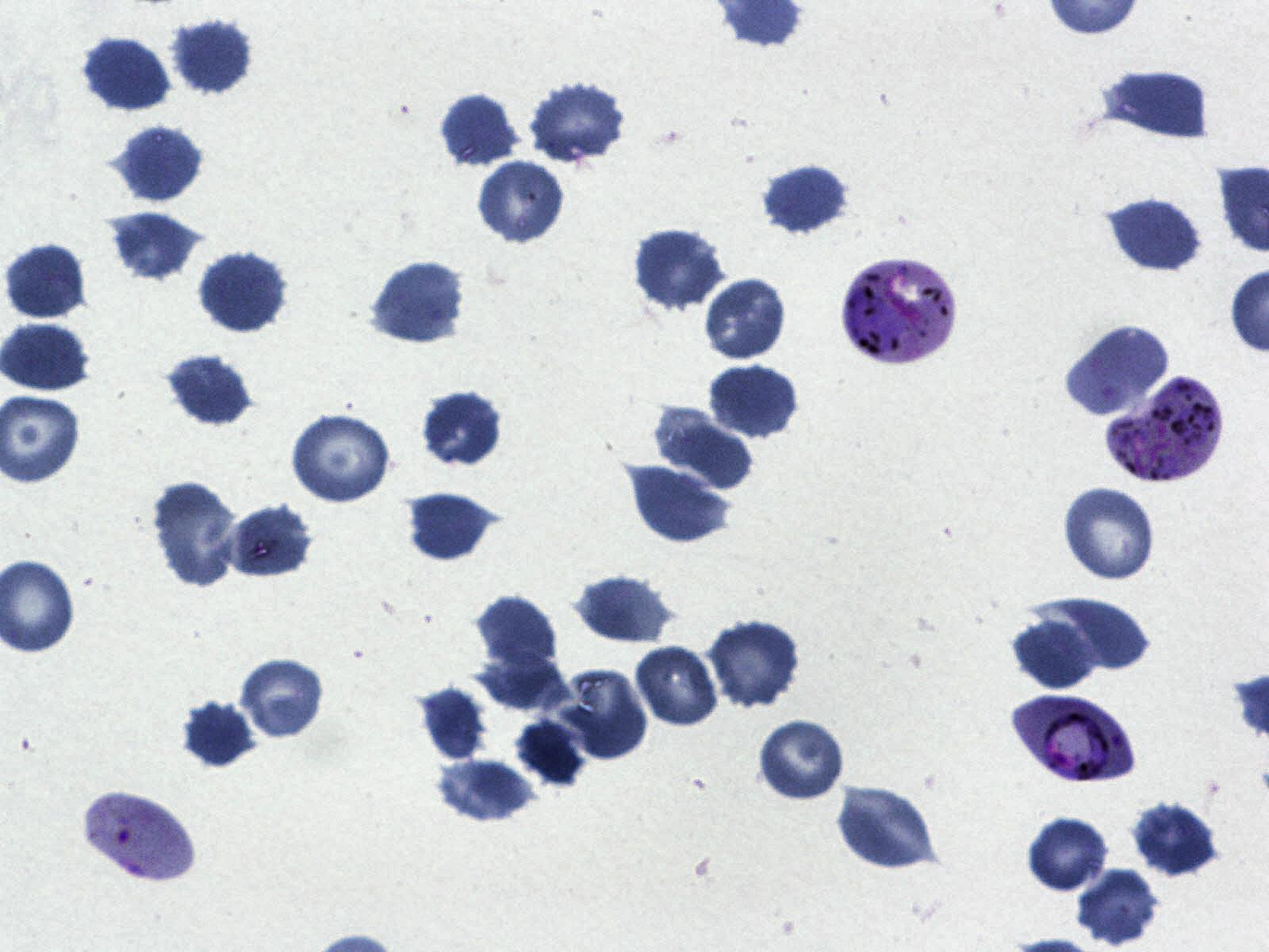Infected: (1106, 378, 1225, 482), (843, 259, 957, 361), (81, 792, 197, 885), (1012, 697, 1135, 781)
Uninfected: (1062, 484, 1158, 583), (152, 479, 240, 585), (290, 412, 393, 502), (1066, 323, 1165, 415), (626, 460, 729, 546), (474, 155, 568, 248), (834, 784, 935, 869), (709, 618, 801, 709), (562, 670, 650, 763), (656, 412, 753, 494), (1106, 65, 1210, 141), (370, 261, 464, 345), (632, 227, 726, 311), (529, 81, 625, 163), (197, 248, 286, 336), (758, 716, 846, 804), (218, 505, 316, 582), (580, 570, 677, 647), (704, 276, 790, 362), (636, 643, 721, 729), (707, 362, 799, 441), (1042, 601, 1147, 670), (1107, 195, 1200, 272), (438, 754, 536, 827), (240, 656, 324, 741), (107, 208, 197, 285), (117, 122, 202, 203), (1075, 867, 1164, 944), (420, 390, 503, 470), (762, 162, 850, 236), (171, 15, 253, 94), (83, 36, 167, 113), (3, 243, 85, 321), (1026, 815, 1109, 892), (167, 351, 250, 428), (1133, 804, 1217, 878), (477, 649, 575, 712), (415, 686, 484, 766), (1017, 620, 1098, 688), (410, 493, 493, 559), (477, 597, 556, 666), (185, 701, 262, 770), (441, 95, 512, 167), (519, 718, 585, 785)
